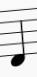note: (9, 4, 31, 68)
